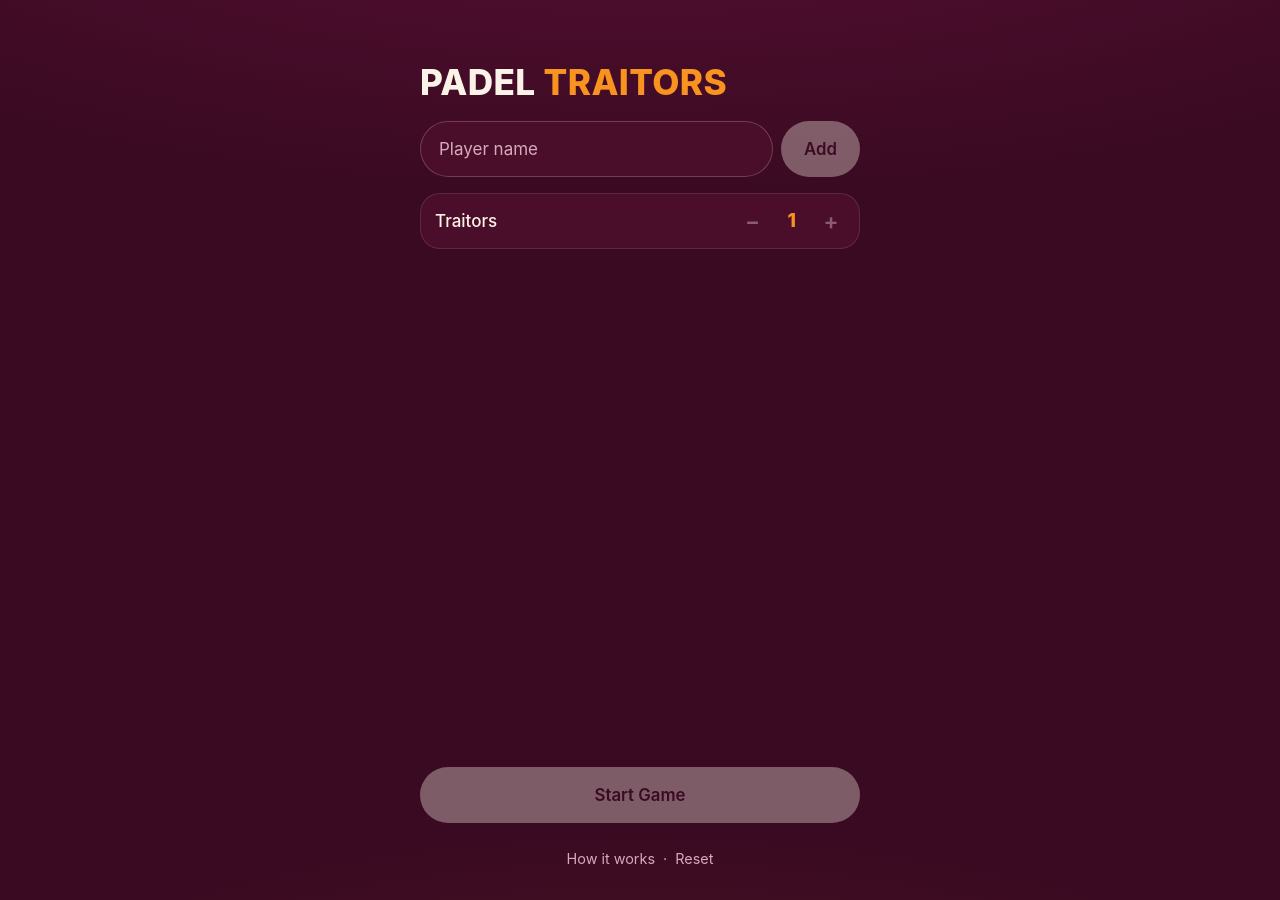
setup › edits and removes players
Step 1. Type "Ana" into the field labelled "Player name" → (597, 149), box left=420, top=121, right=773, bottom=177
Then press Enter
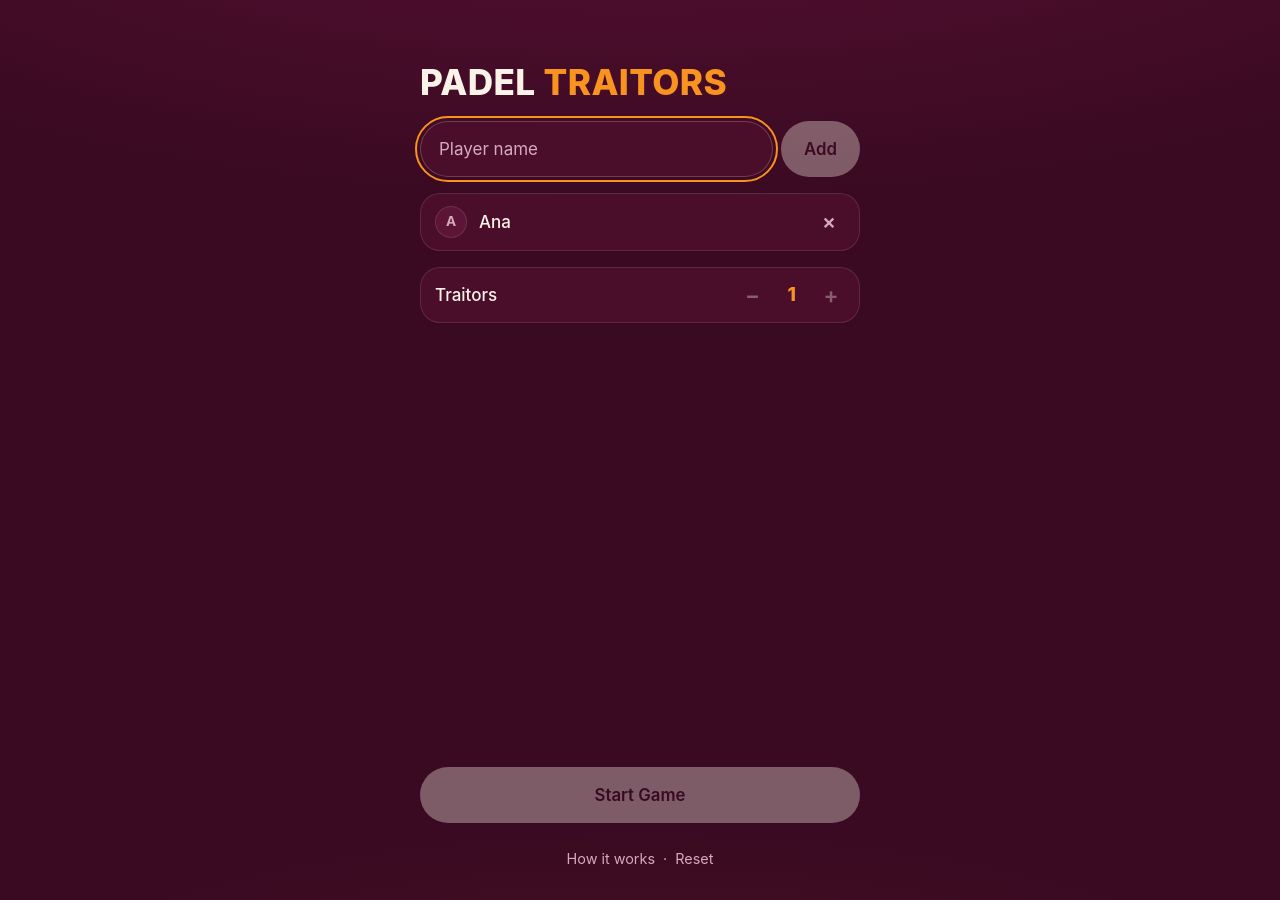
Step 2. Type "Ben" into the field labelled "Player name" → (597, 149), box left=420, top=121, right=773, bottom=177
Then press Enter
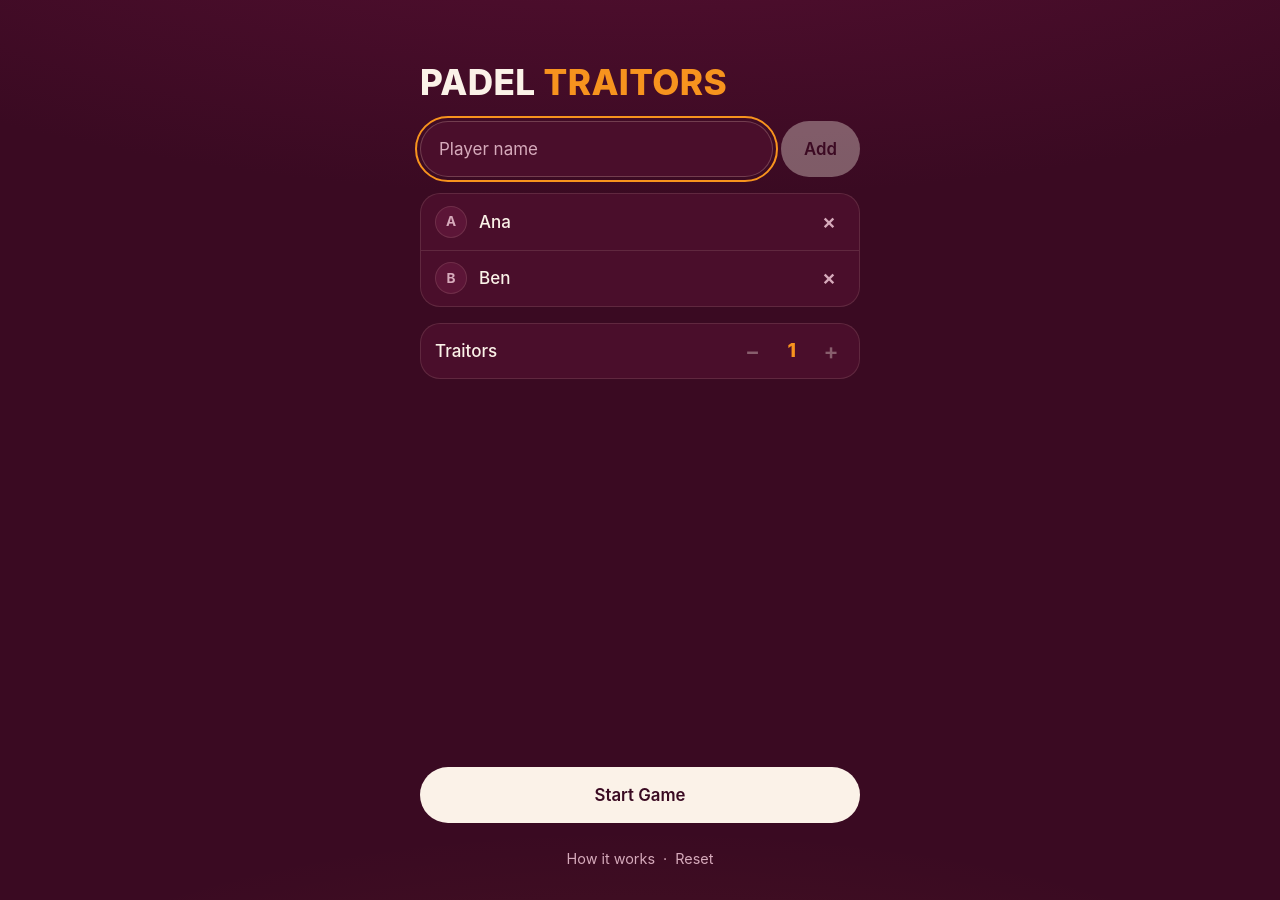
Step 3. Click the button with aria-label "Edit Ana" → (495, 222), box left=479, top=198, right=795, bottom=246
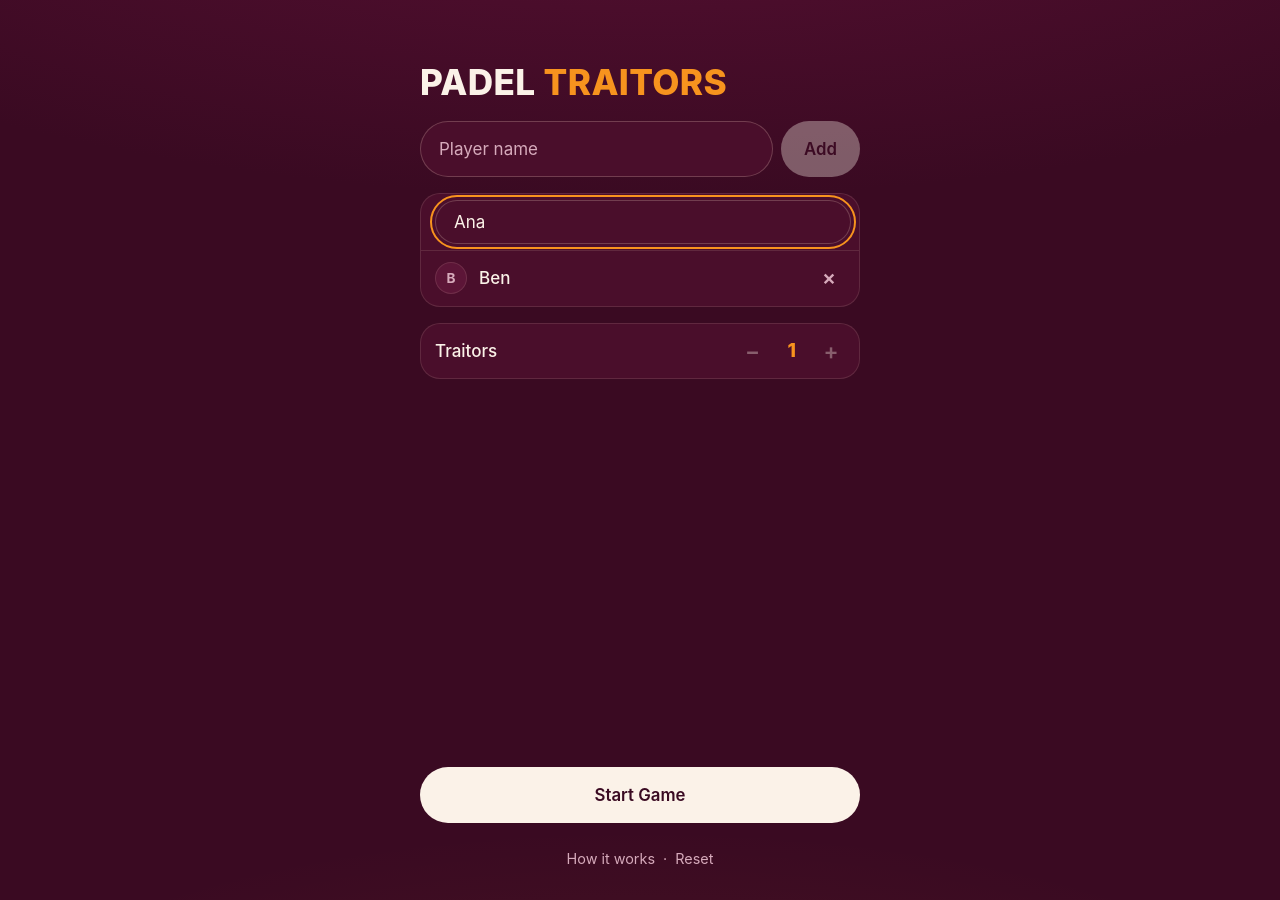
Step 4. Replace the text in the field named "Edit name for Ana" with "Anna" → (643, 222), box left=435, top=200, right=851, bottom=244
Then press Enter
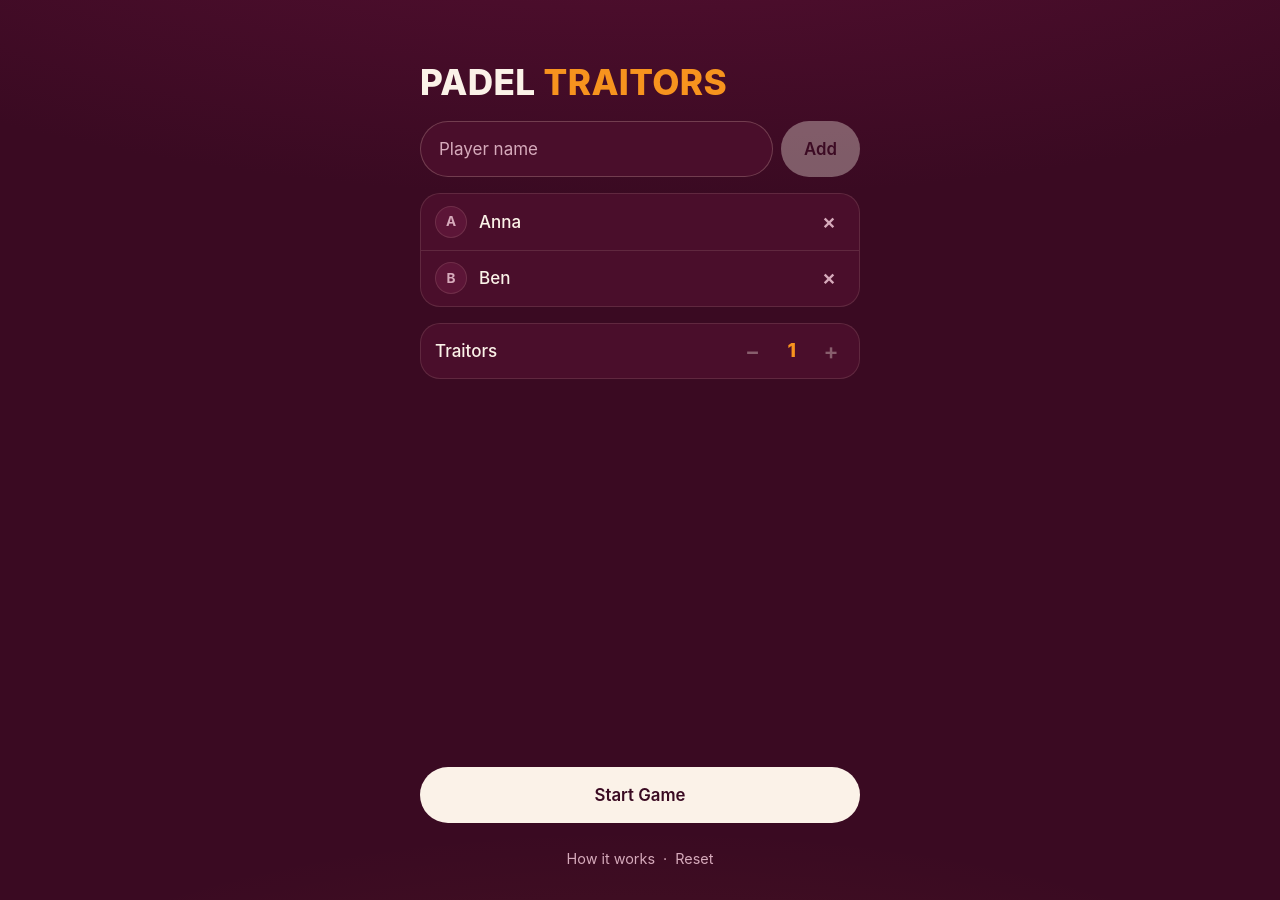
Now the button "Anna" is shown, box left=479, top=198, right=795, bottom=246
Step 5. Click the button named "Remove Ben" → (829, 278), box left=807, top=256, right=851, bottom=300
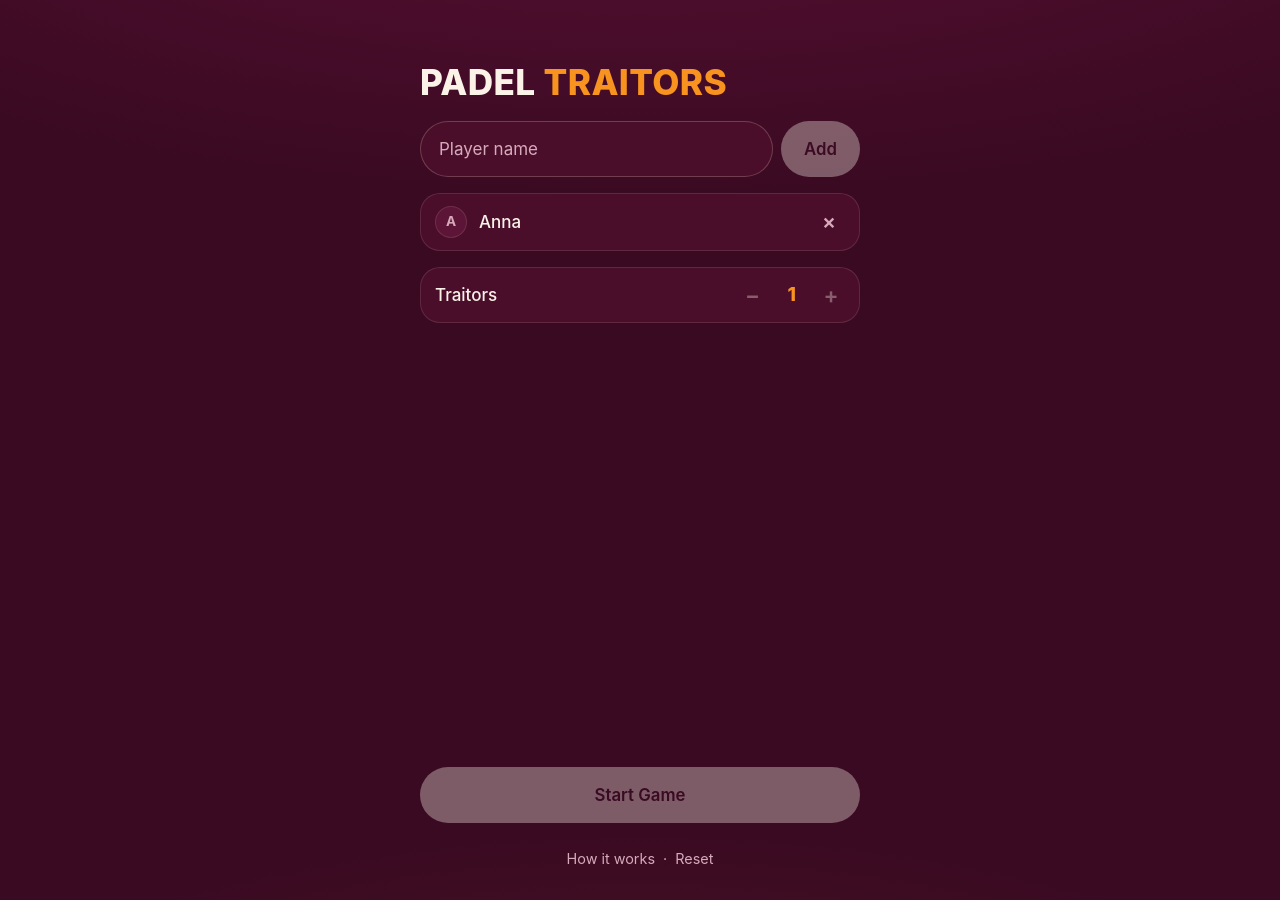
Now the button "Ben" is gone
